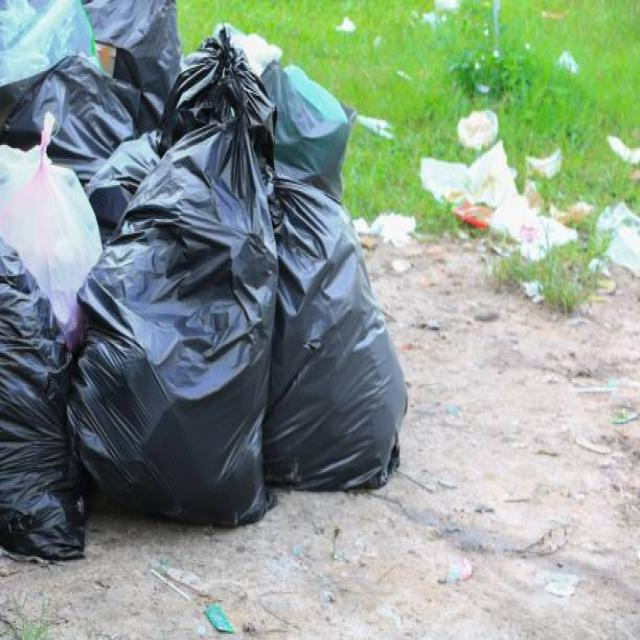garbage: (0, 0, 405, 559), (420, 95, 640, 313)
